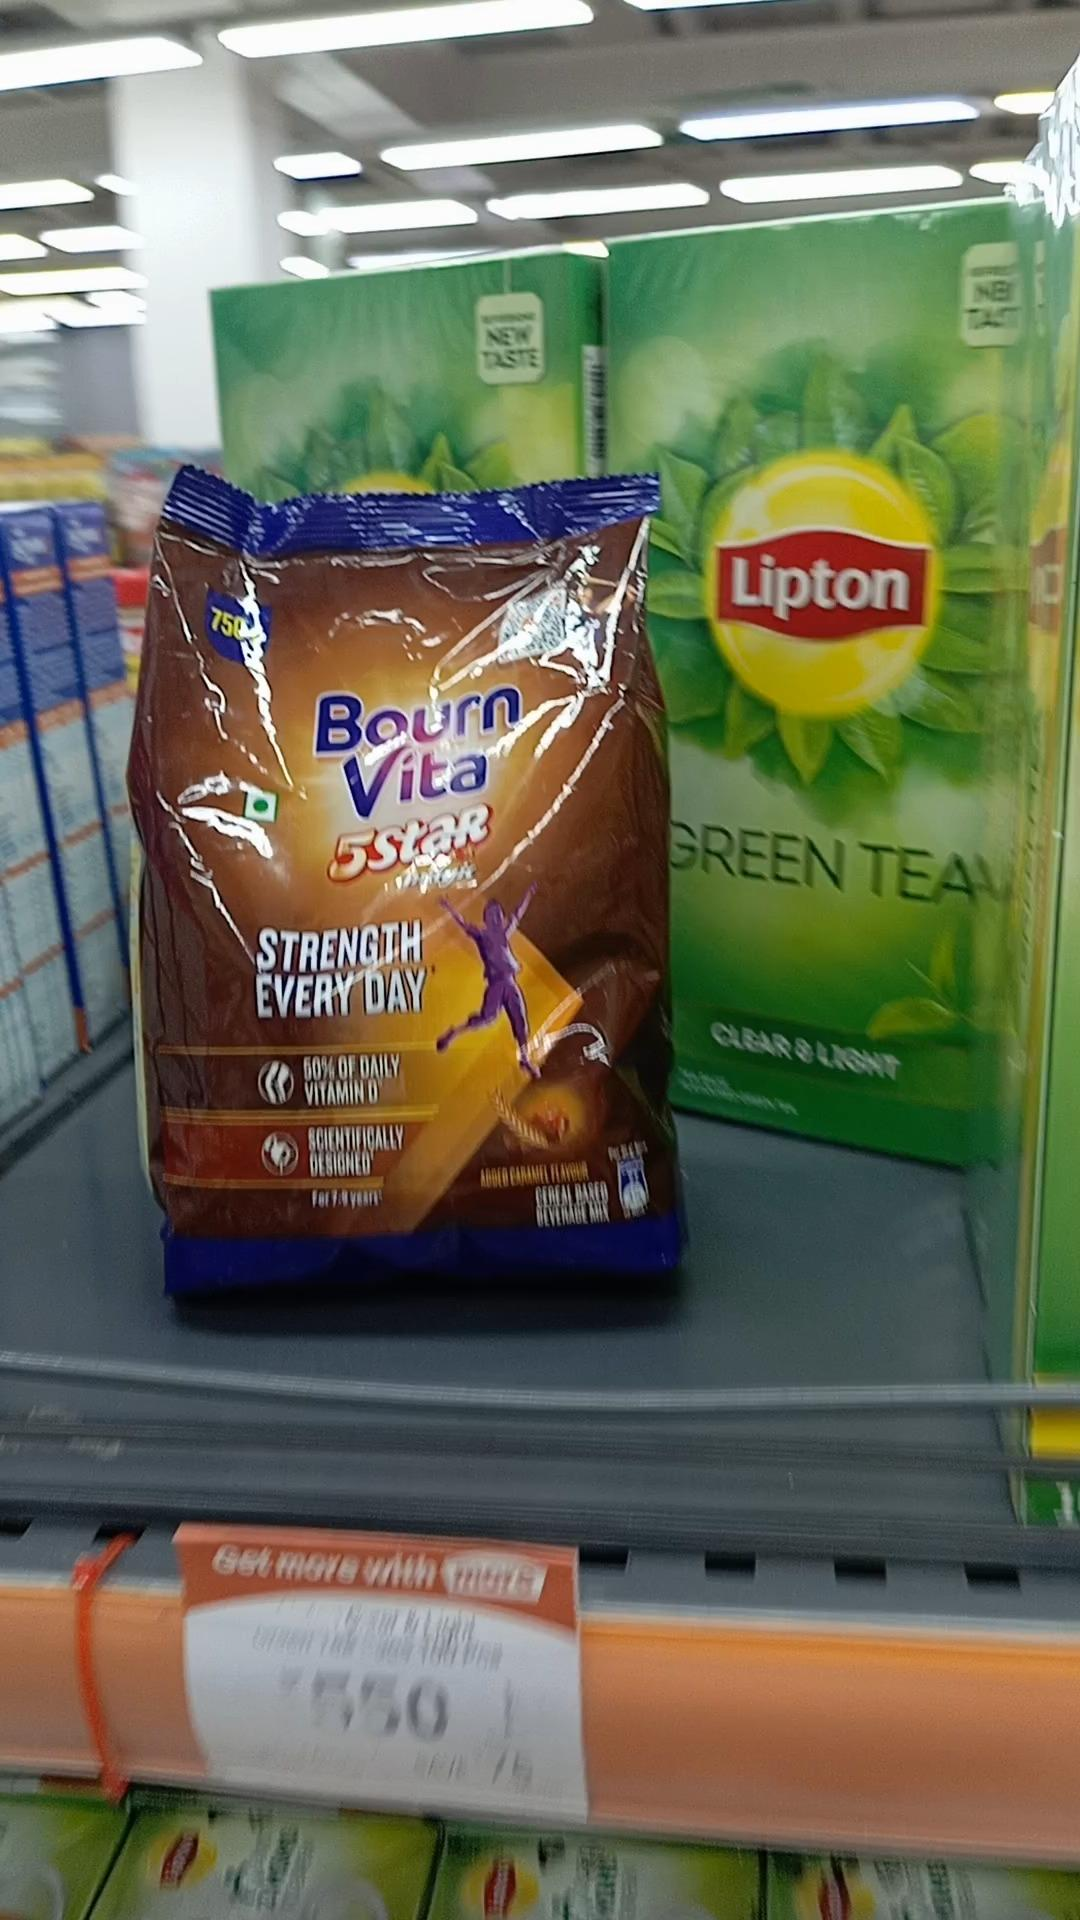BOURN_VITA_FIVE_STAR_MAGIC_750_G_POUCH: (153, 459, 683, 1307)
